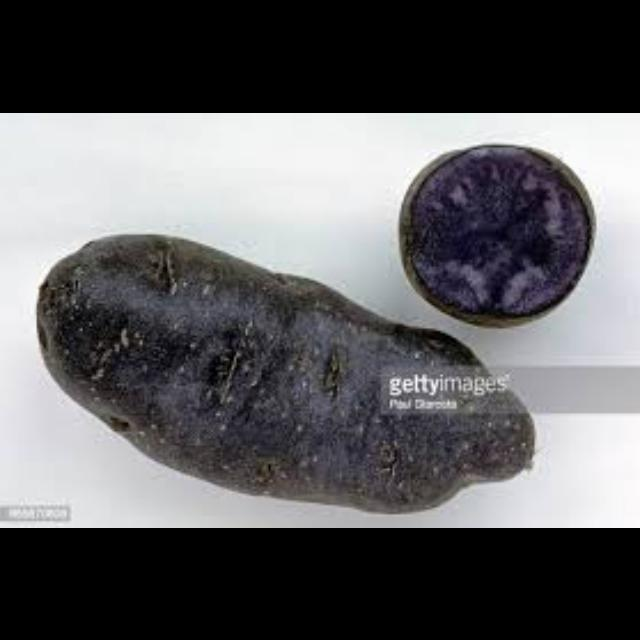Damaged potato: (19, 232, 535, 514), (397, 143, 605, 333)
